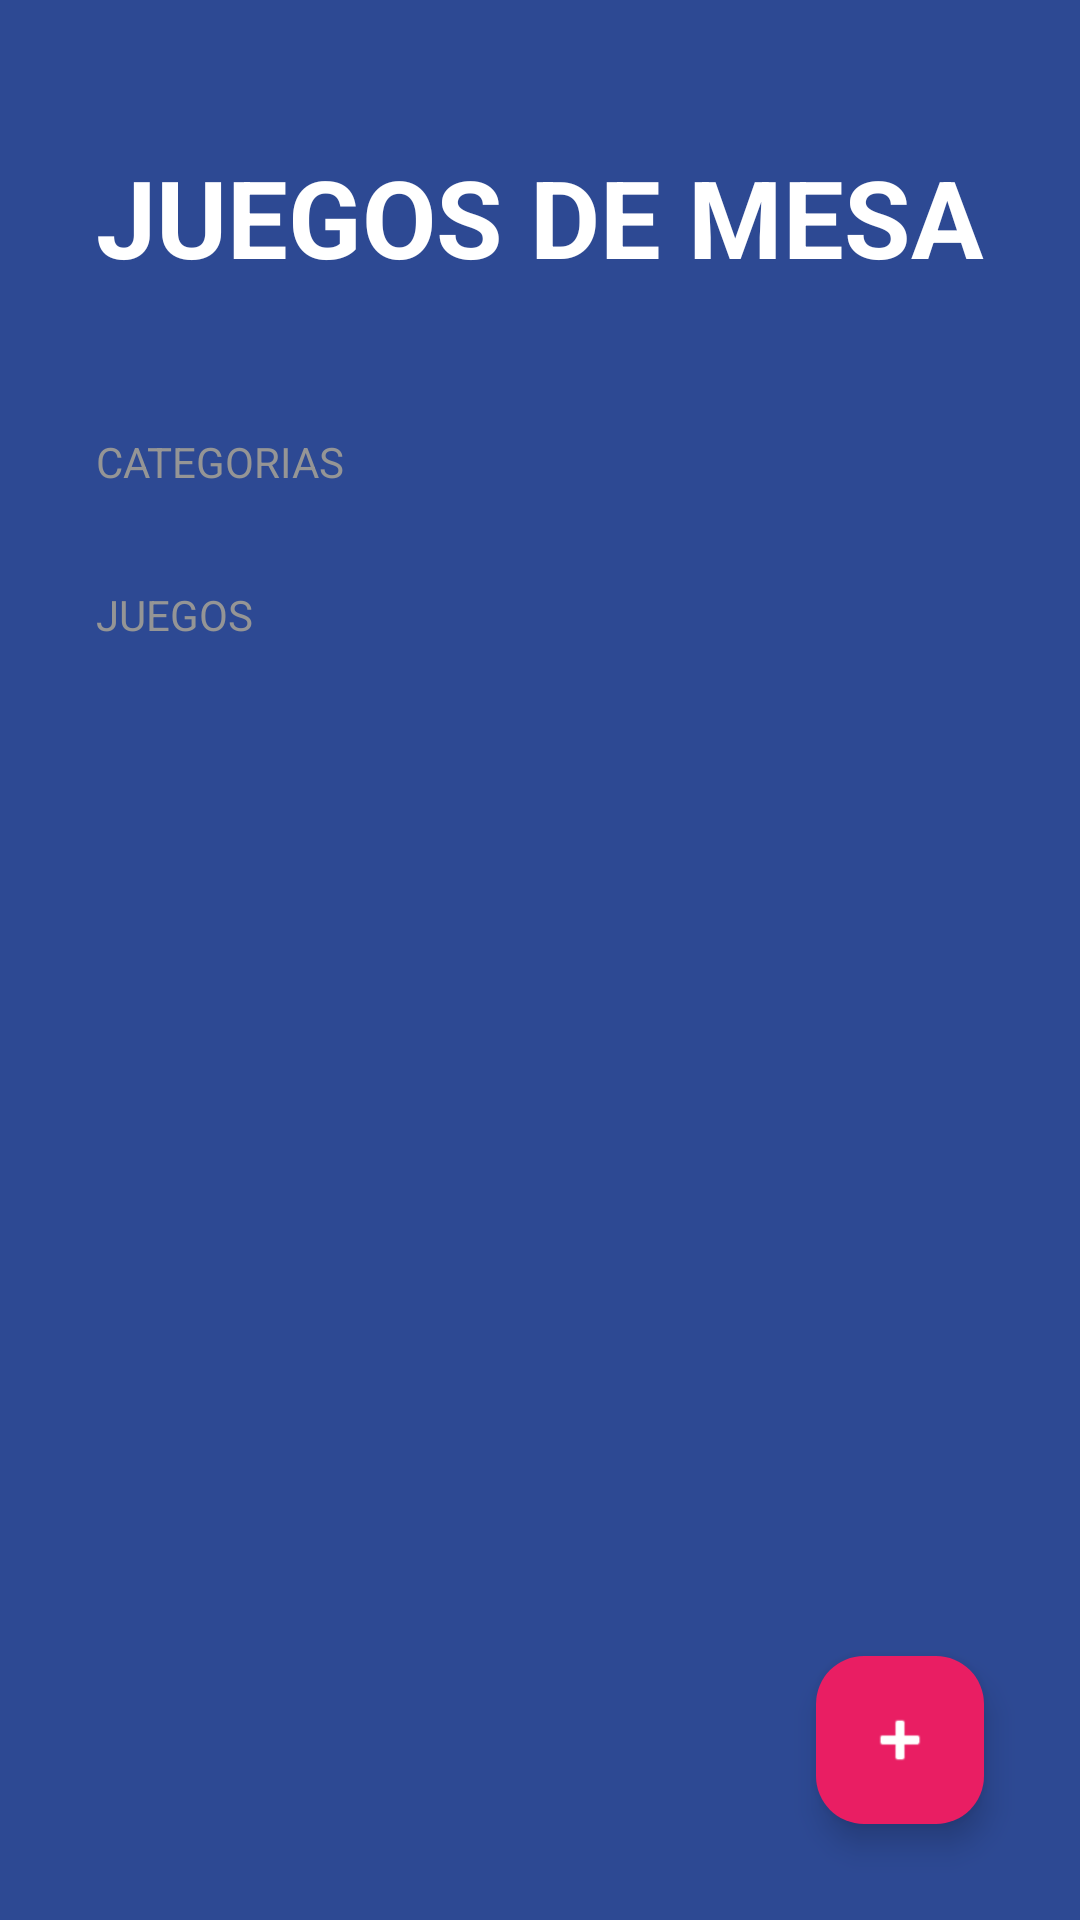

Locate icon controls on the screen. Image size 1080w x 1920h, boxes as {"left": x1, "top": y1, "right": x2, "bottom": y2}.
Añade un juego: {"left": 816, "top": 1656, "right": 984, "bottom": 1824}
